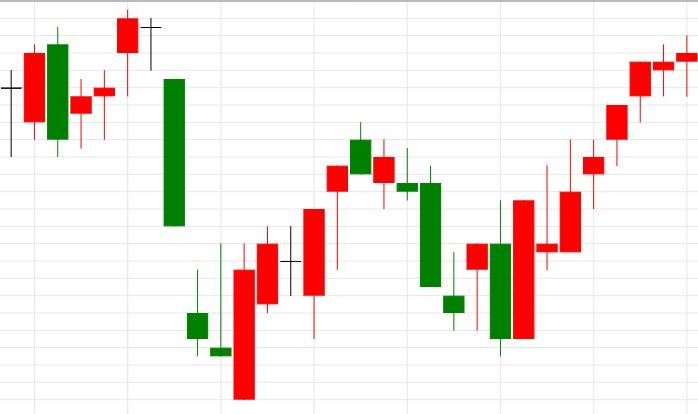bullish_engulfing_rise: (116, 9, 256, 400)
hanging_man_fall: (233, 165, 349, 400)
